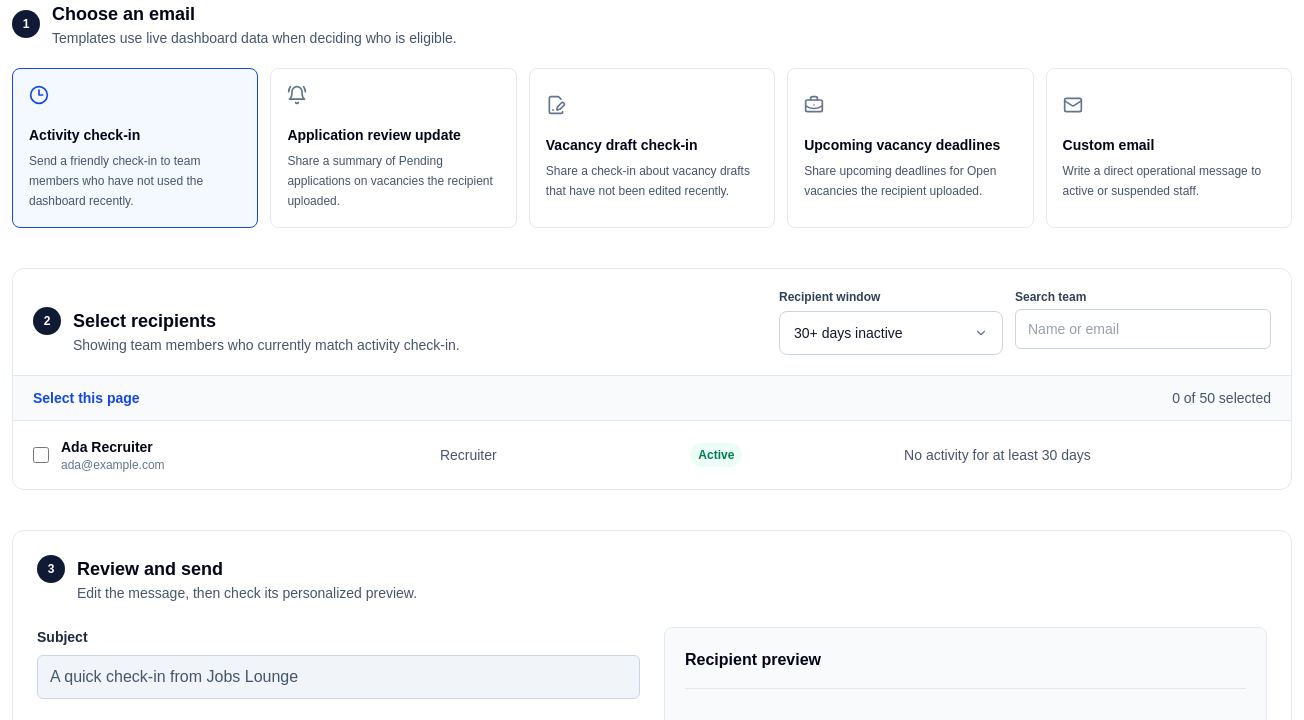
Test case: TeamEmailCenter › uses one recipient-window control for eligibility and all-team selection
Click the button named "Recipient window".
click(891, 333)  # box [779, 311, 1003, 355]
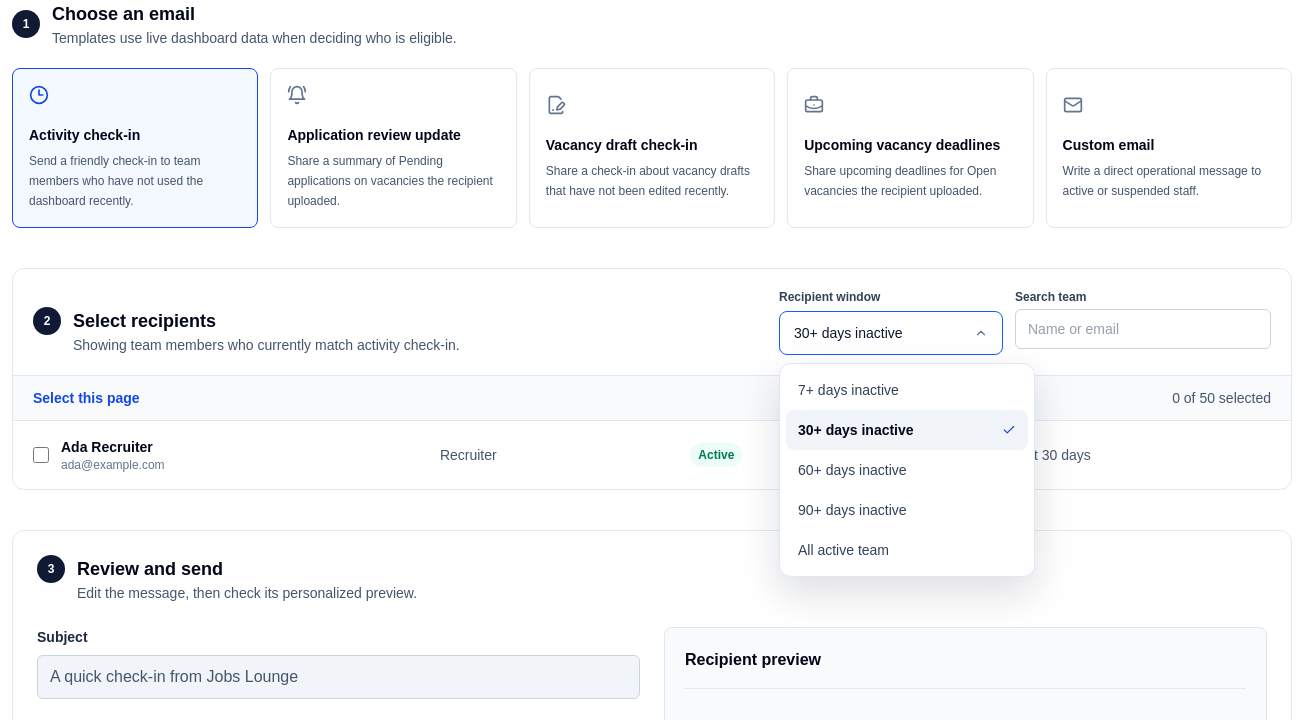
Click the option "All active team".
click(907, 550)  # box [786, 530, 1028, 570]
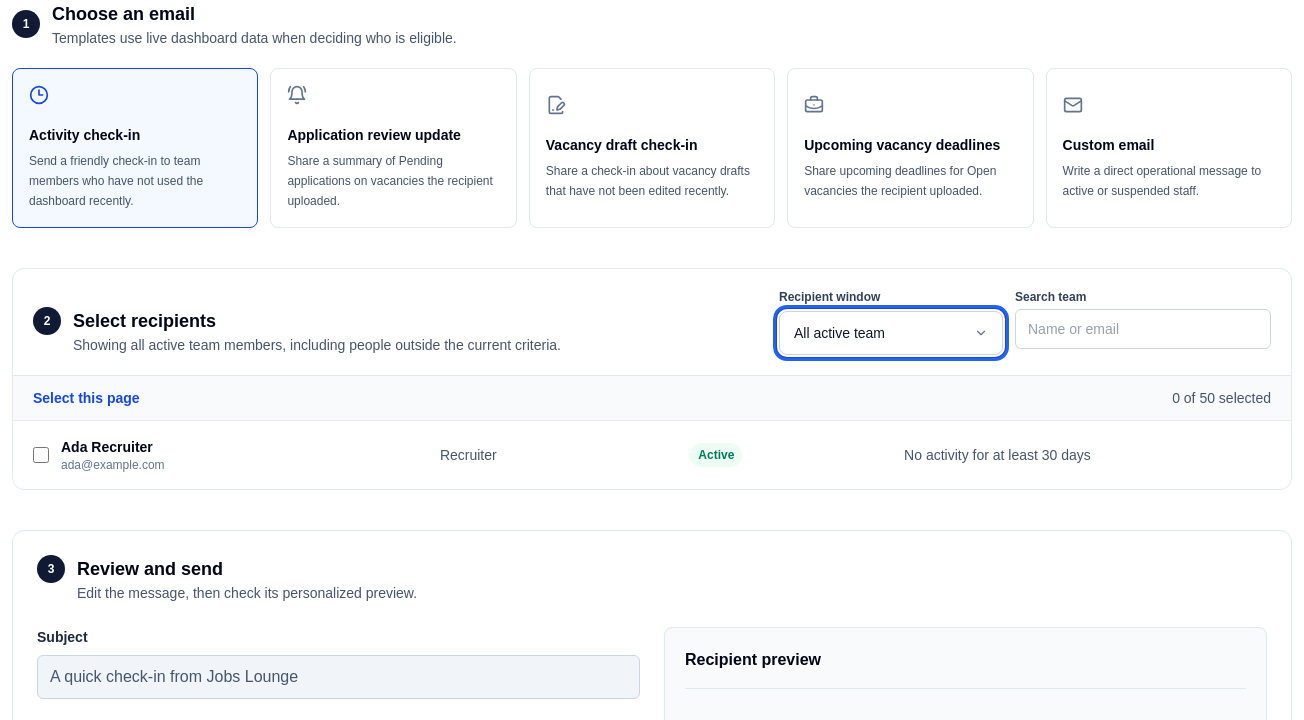
expect the button named "Recipient window" reads "All active team": met, box [779, 311, 1003, 355]
